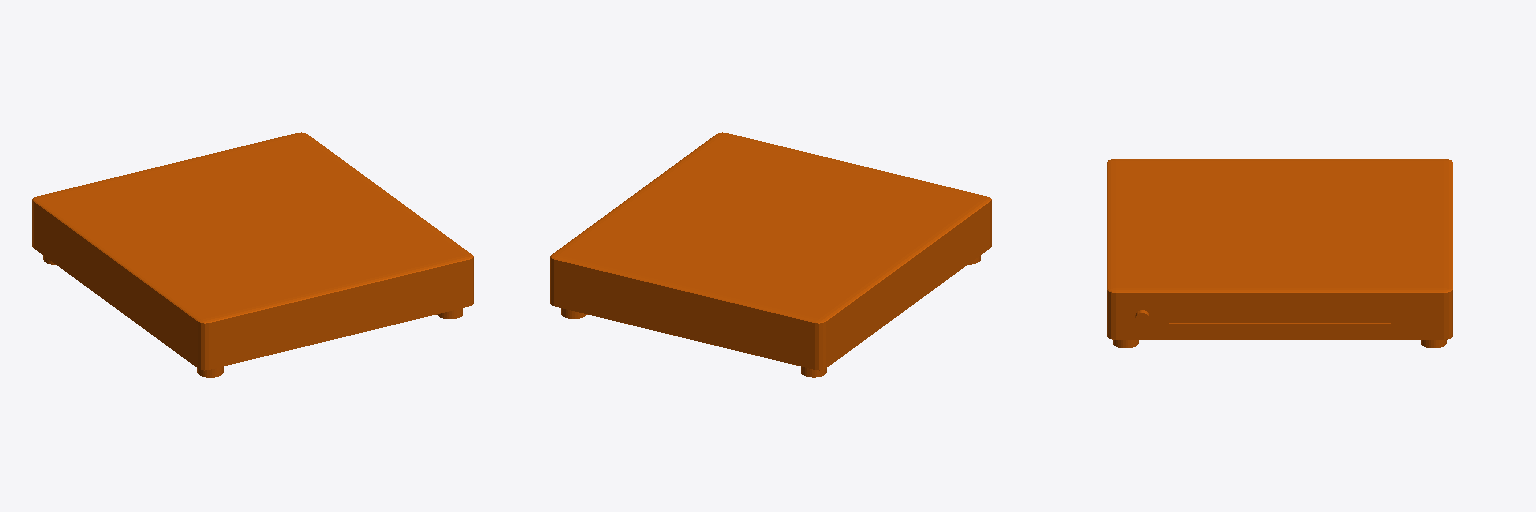
File: rightbox.obj
3 renders of one model, left to right at view 1: azimuth 30°, elevation 25°; view 2: azimuth 150°, elevation 25°; view 3: azimuth 270°, elevation 25°, orthographic.
Visible parts, largest first — view 1: 立方体.024; view 2: 立方体.024; view 3: 立方体.024.
Part boxes in pixels (x1,y1,x2,y2): 立方体.024: (32,132,473,377); 立方体.024: (550,132,991,377); 立方体.024: (1107,159,1452,347).
Size of the model in its own units: 0.4243 by 0.0863 by 0.4528.